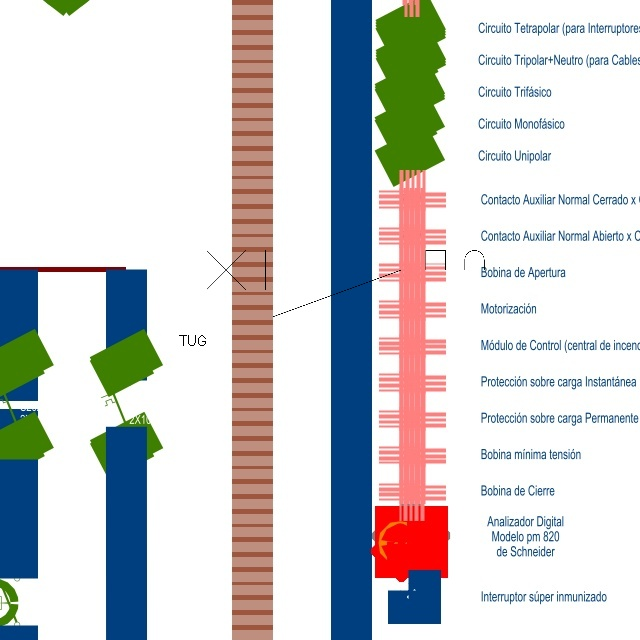interruptor_termomagnetico: (179, 242, 517, 325)
